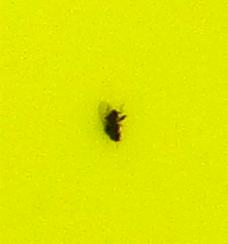Brachycera: (100, 100, 128, 144)
